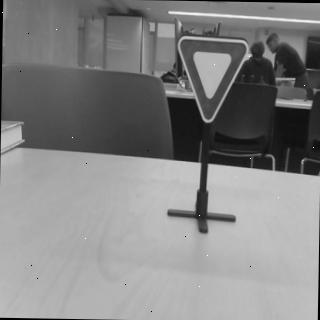sign_yield: (175, 35, 251, 125)
